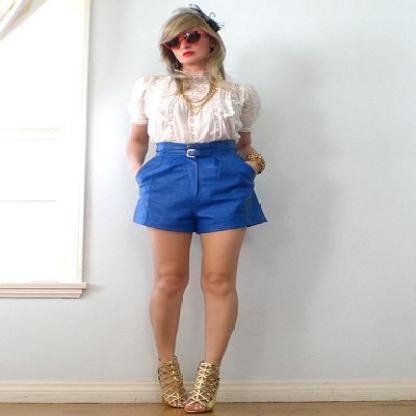shirt: (129, 65, 268, 144)
shoe: (150, 358, 222, 410)
shorts: (133, 152, 261, 234)
sunglass: (165, 31, 200, 48)
